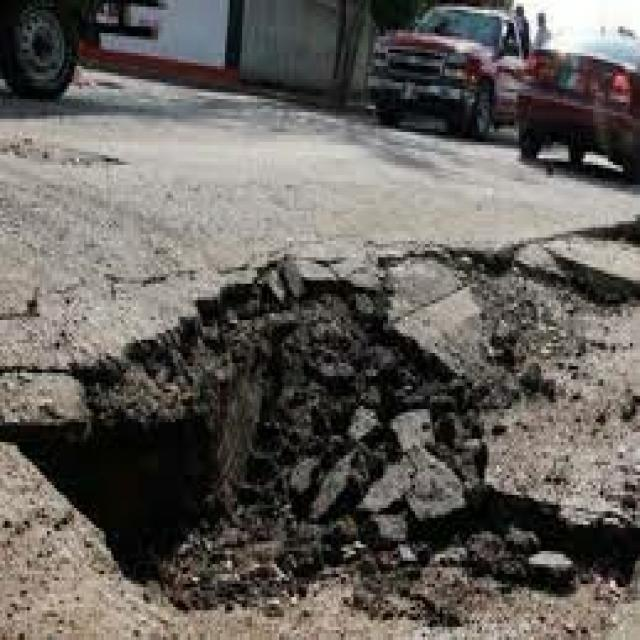Pothole: (8, 234, 632, 640)
